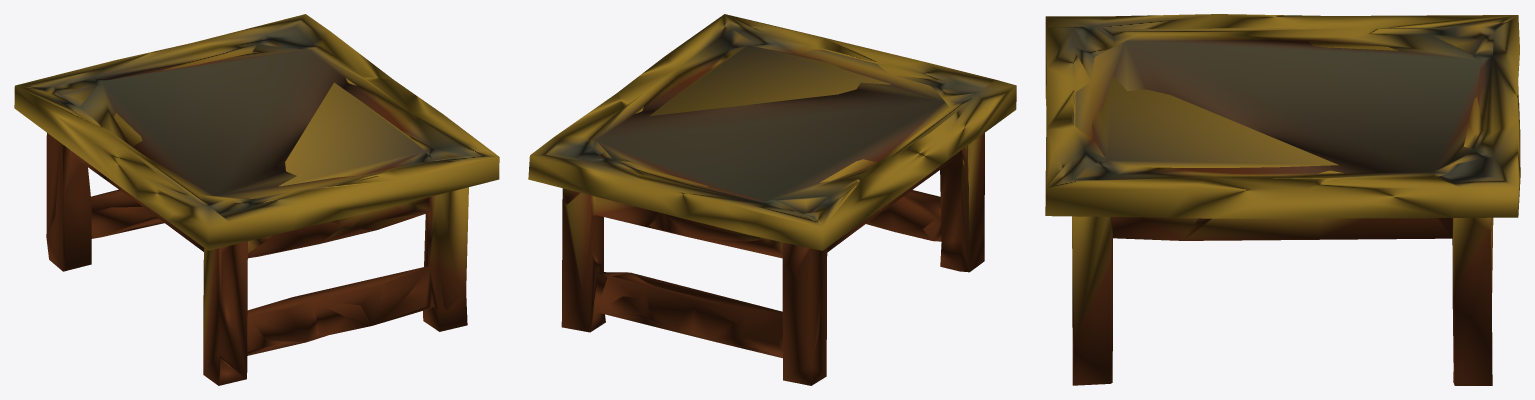
The model's file is gen3d-crafting-table-lod1.glb.
3 views of the same model, side by side, from view 1: azimuth 30°, elevation 25°; view 2: azimuth 150°, elevation 25°; view 3: azimuth 270°, elevation 25° (orthographic). The views are drawn at different scales.
Visible parts, largest first — view 1: part_0; view 2: part_0; view 3: part_0.
Boxes of the visible parts, bbox=[...] form: part_0: bbox=[14, 14, 499, 385]; part_0: bbox=[528, 14, 1016, 385]; part_0: bbox=[1045, 14, 1520, 385].
Size of the model in its own units: 1.75 by 0.9888 by 2.01.
